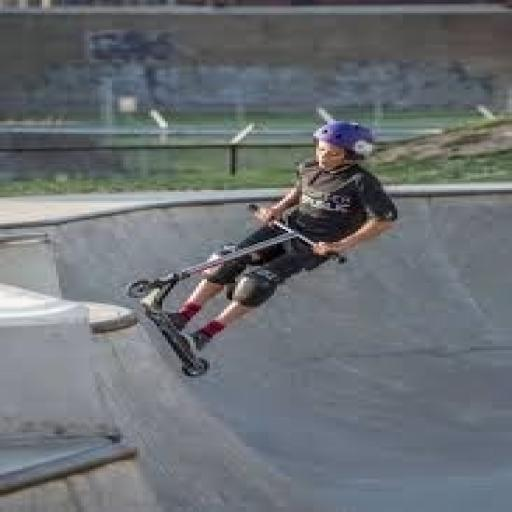cycling: (159, 117, 403, 354)
